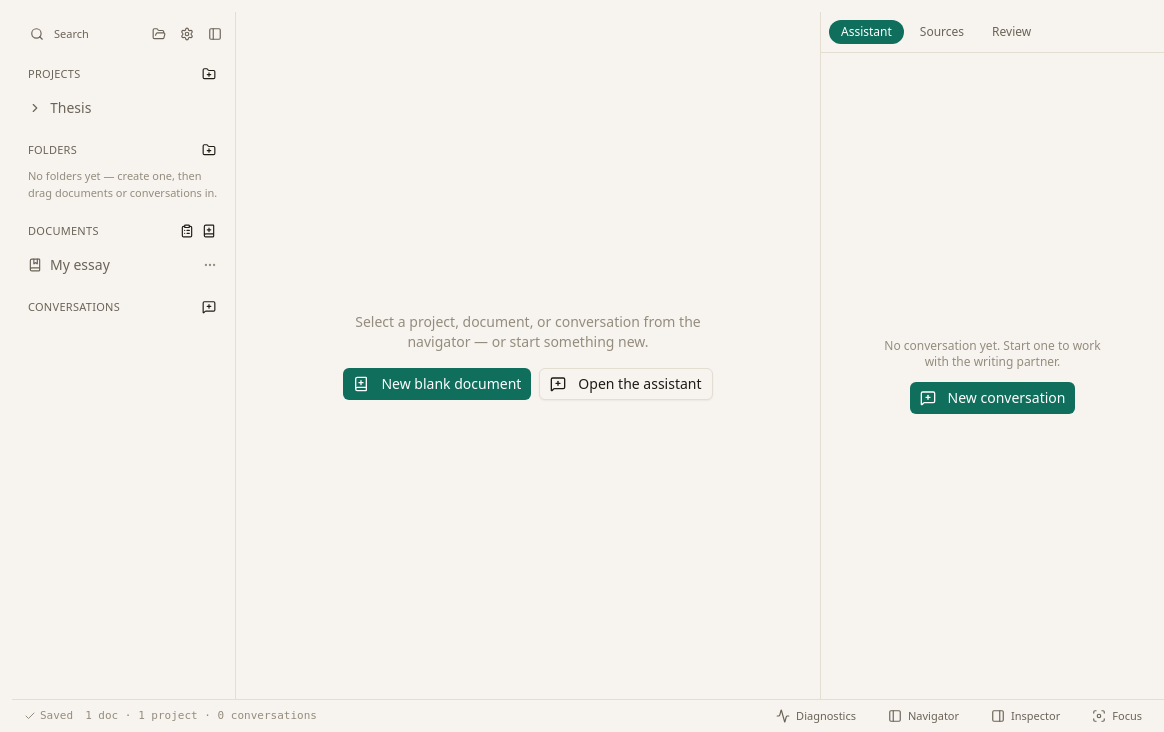
Scenario: WorkspaceShell measured layout (B20c) › preserves navigator-local state across collapse and re-expand
Click the button named "expand thesis" at (35, 108), box x1=28 y1=101 x2=42 y2=115
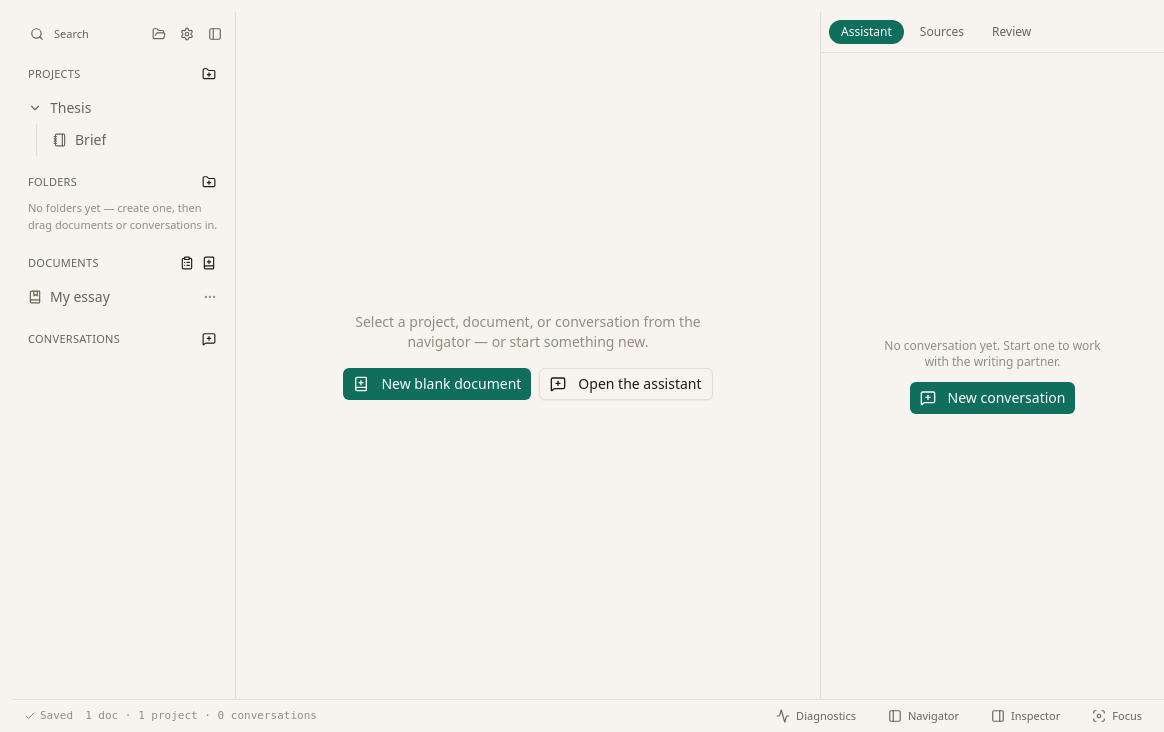
Now the button named "collapse thesis" is expanded, box x1=28 y1=101 x2=42 y2=115
Now the button "Brief" is shown, box x1=45 y1=124 x2=227 y2=156
Collapse the whole navigator (the panel stays mounted, hidden).
Click the button named "collapse navigator" at (215, 34), box x1=203 y1=22 x2=227 y2=46
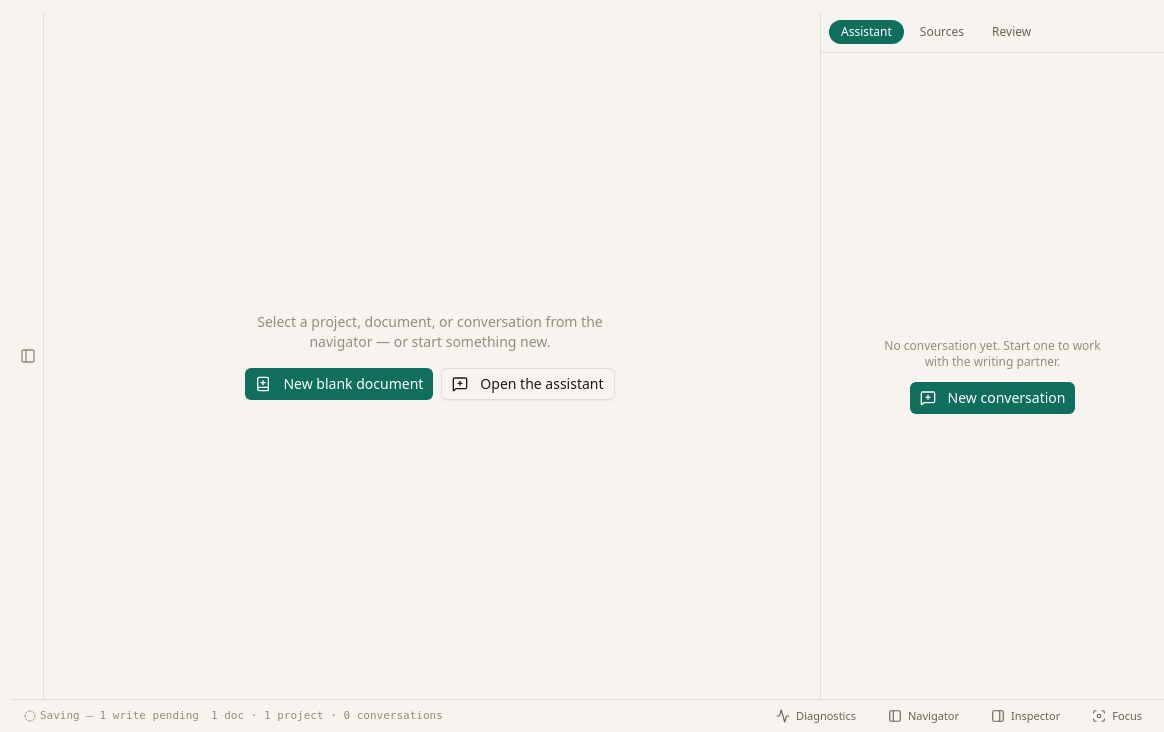
Now the button "Brief" is gone
Click the button named "show navigator" at (28, 356), box x1=12 y1=12 x2=44 y2=699
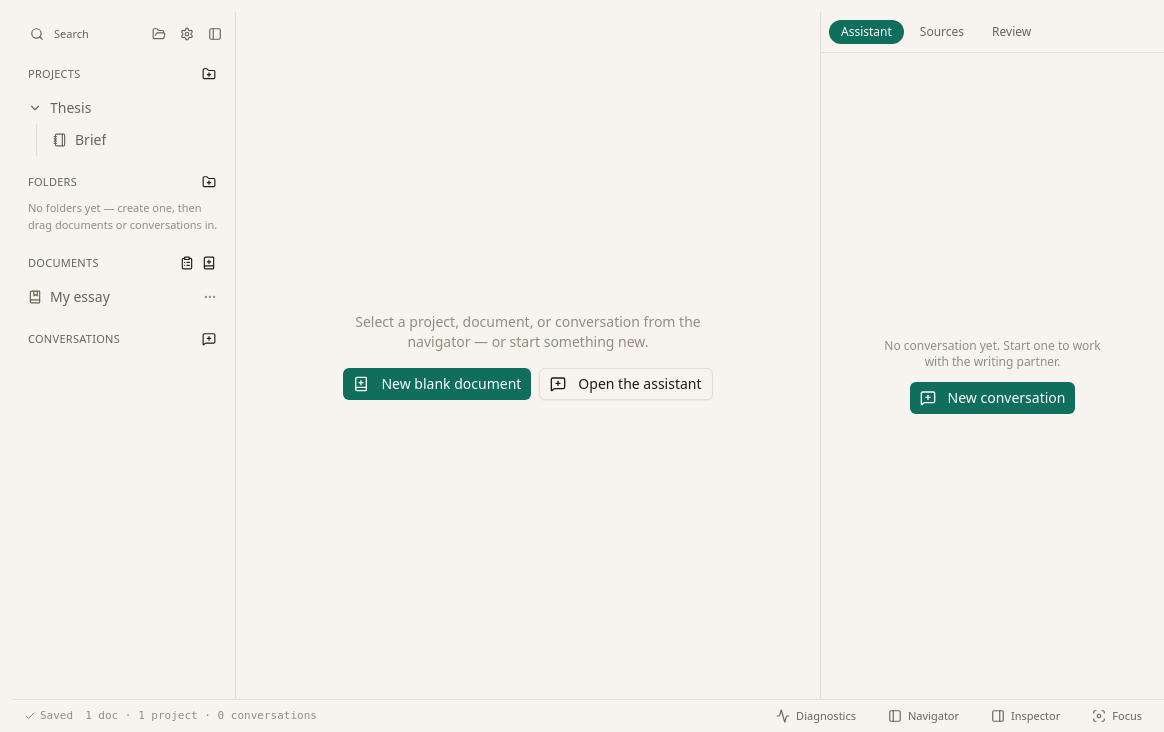
Now the button named "collapse thesis" is expanded, box x1=28 y1=101 x2=42 y2=115
Now the button "Brief" is shown, box x1=45 y1=124 x2=227 y2=156
